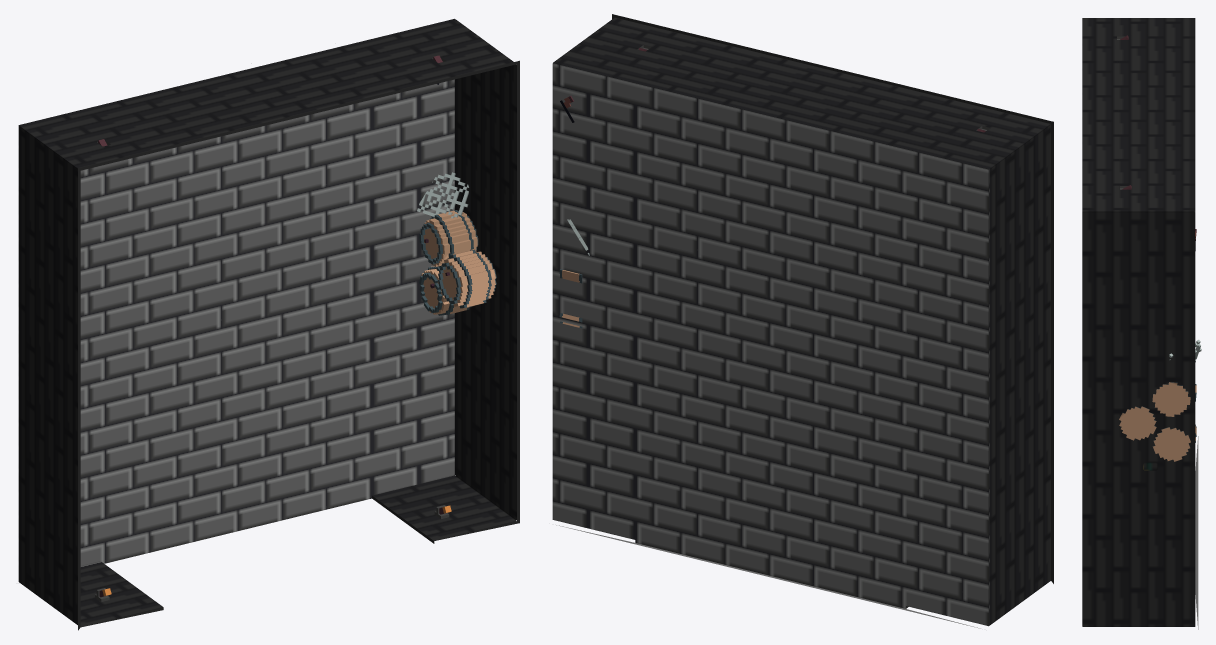
The model's file is Last_Room.fbx.
The picture shows the model from 3 angles, left to right: view 1: azimuth 30°, elevation 25°; view 2: azimuth 150°, elevation 25°; view 3: azimuth 270°, elevation 25°; orthographic projection. The views are drawn at different scales.
Visible parts, largest first — view 1: Untitled.033; view 2: Untitled.033; view 3: Untitled.033.
Boxes of the visible parts, x1=… form: Untitled.033: x1=18, y1=18, x2=519, y2=630; Untitled.033: x1=552, y1=14, x2=1053, y2=628; Untitled.033: x1=1082, y1=18, x2=1201, y2=629.
Size of the model in its own units: 1602 by 1600 by 412.
